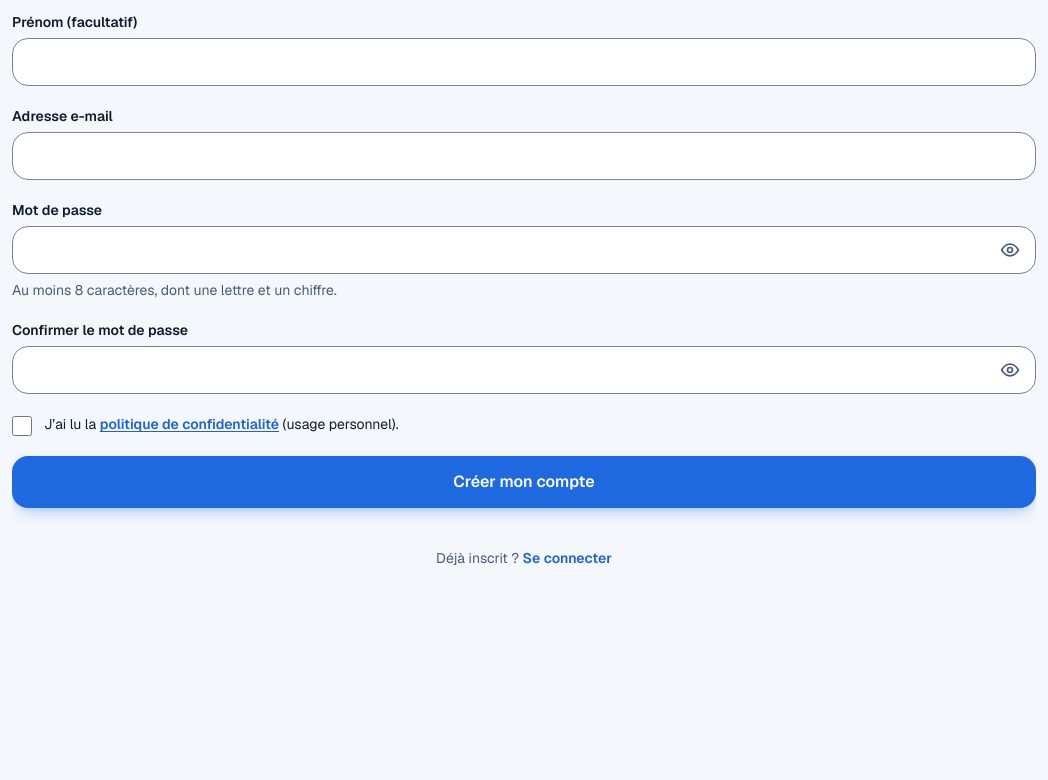
Test case: mode local (Supabase non configuré) › l’inscription valide tous les champs requis
Click the button "Créer mon compte".
click(524, 482)  # box left=12, top=456, right=1036, bottom=508
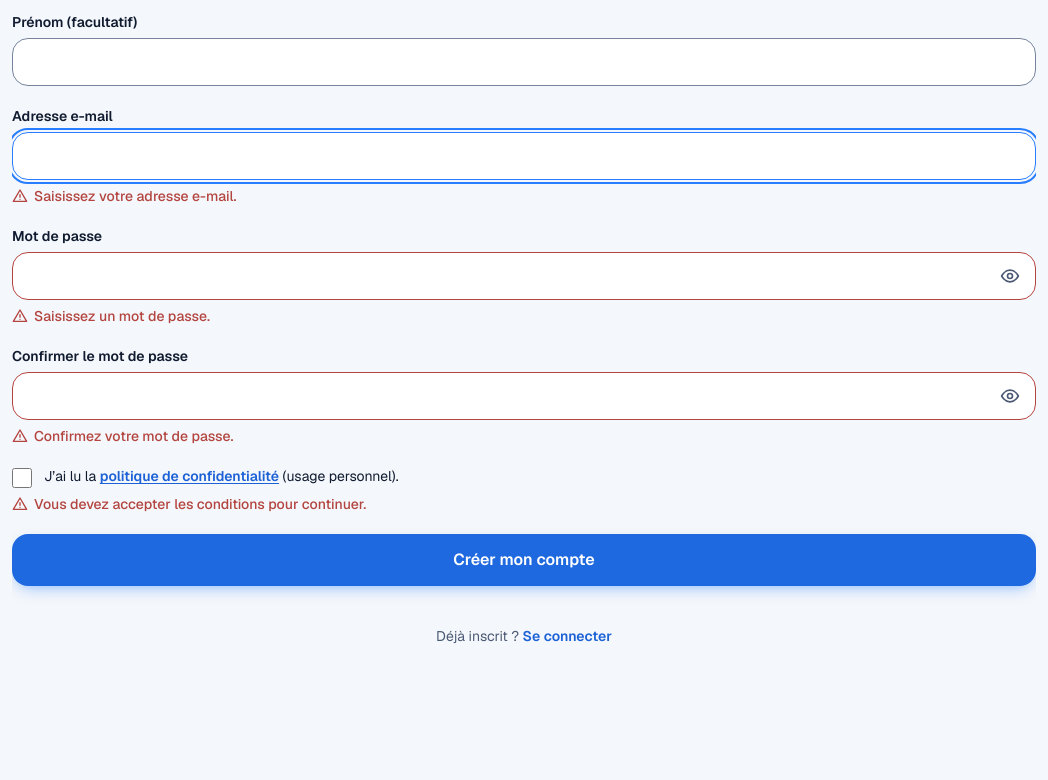
Expected: the text "Saisissez votre adresse e-mail." is shown, left=12, top=187, right=237, bottom=205
Expected: the text "Vous devez accepter les conditions pour continuer." is shown, left=12, top=495, right=366, bottom=513
